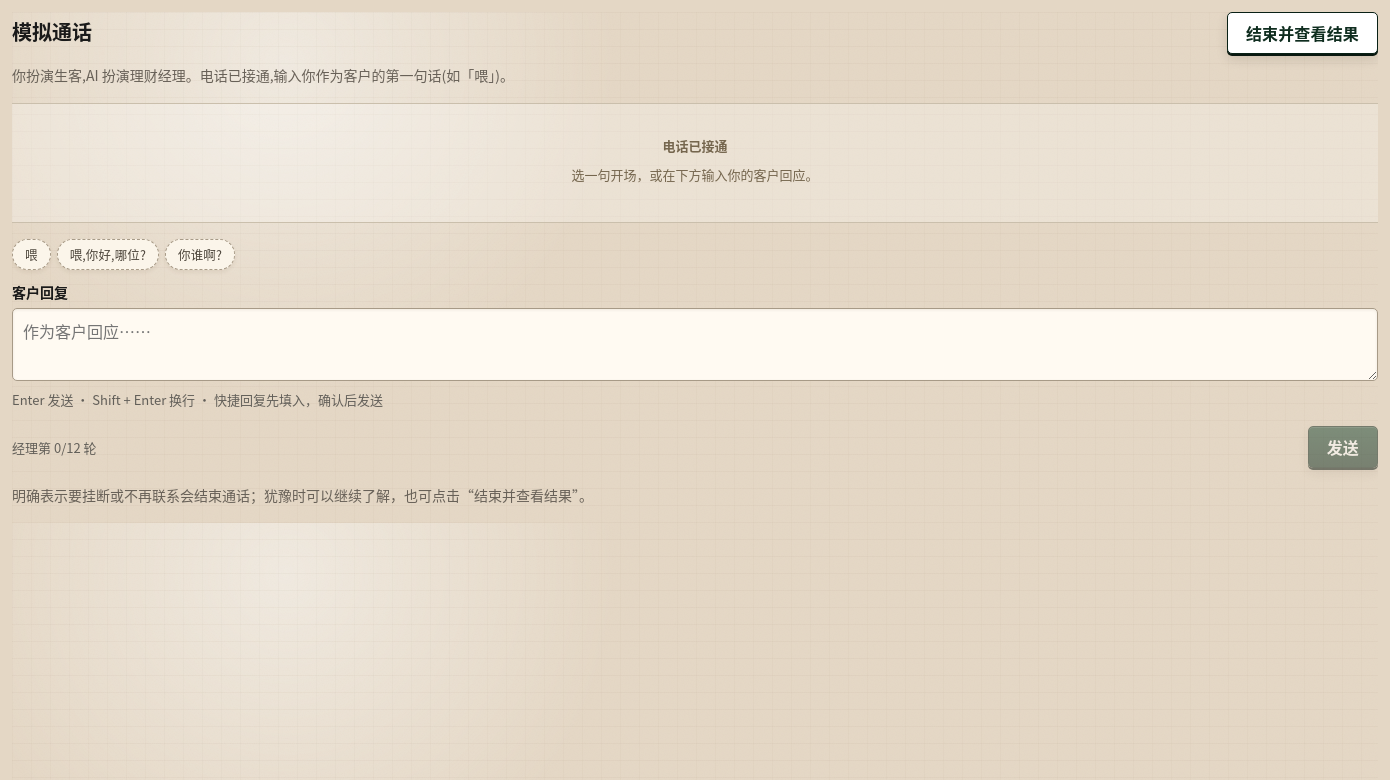
Scenario: 透镜改进:阅读与草稿控制 › 普通断网后核对已保存的客户句子,不把它恢复成重复待发发言
In the text box labelled "客户回复": (695, 345) [12,308,1378,381], type "已发送句子"
Then press Enter
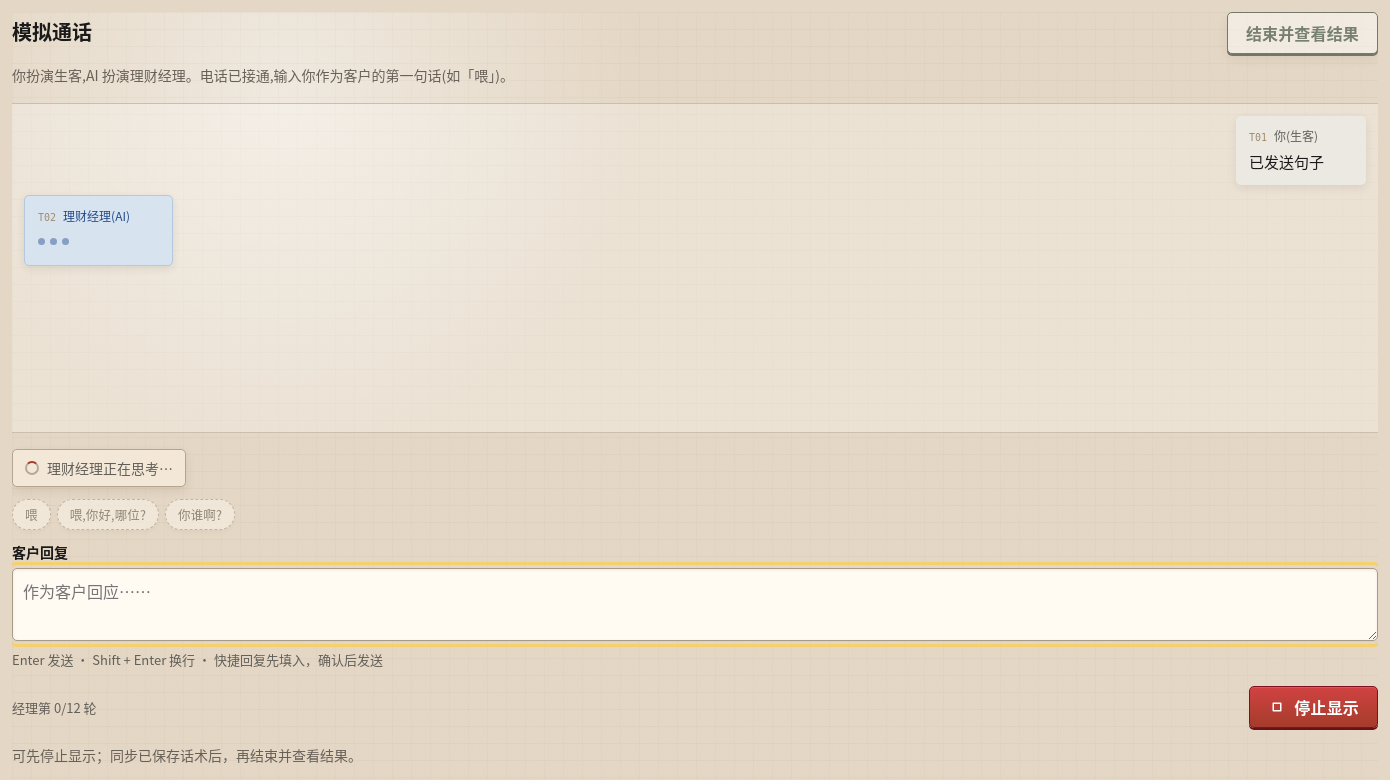
In the text box labelled "客户回复": (695, 605) [12,568,1378,641], type "正在写的新草稿"
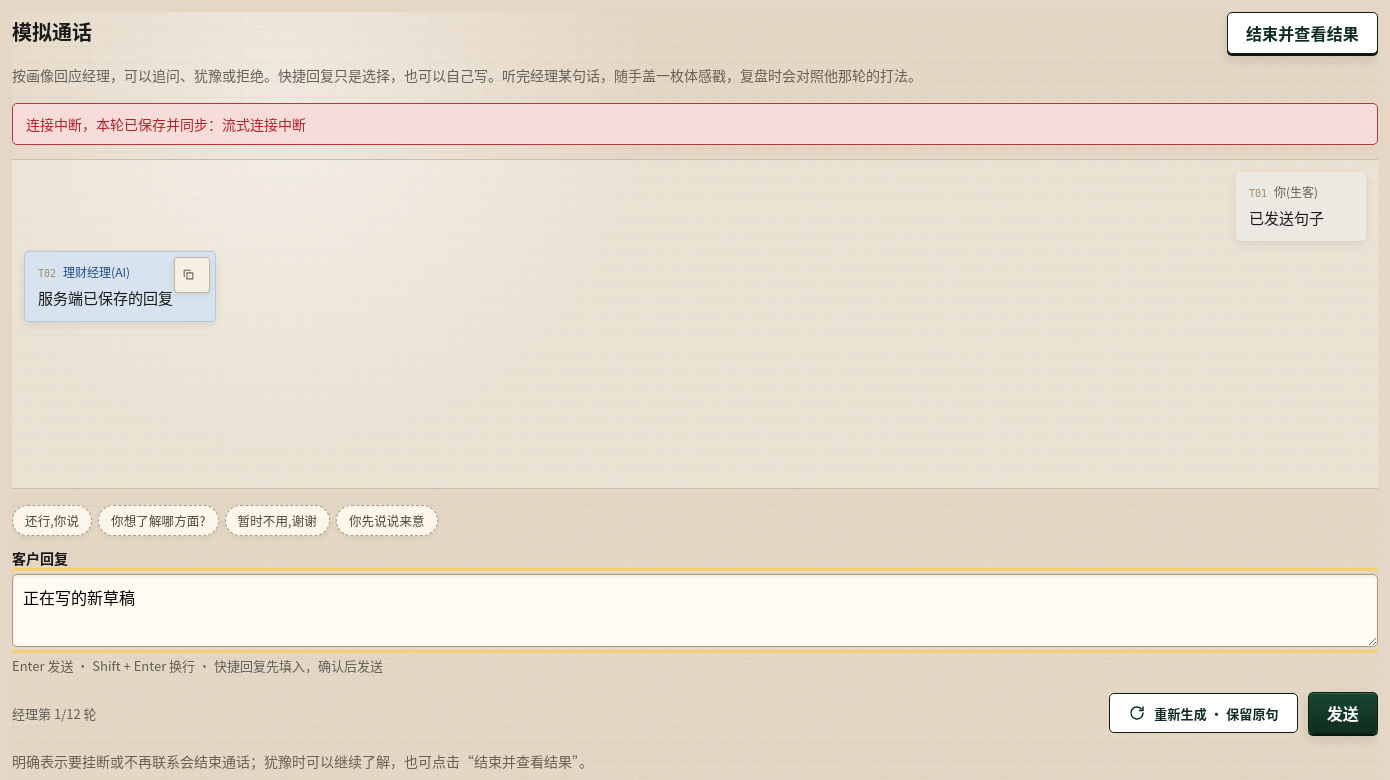
Now the text "服务端已保存的回复" is shown, box [38,285,173,311]
Now the message shows "本轮已保存并同步", box [26,114,306,134]
